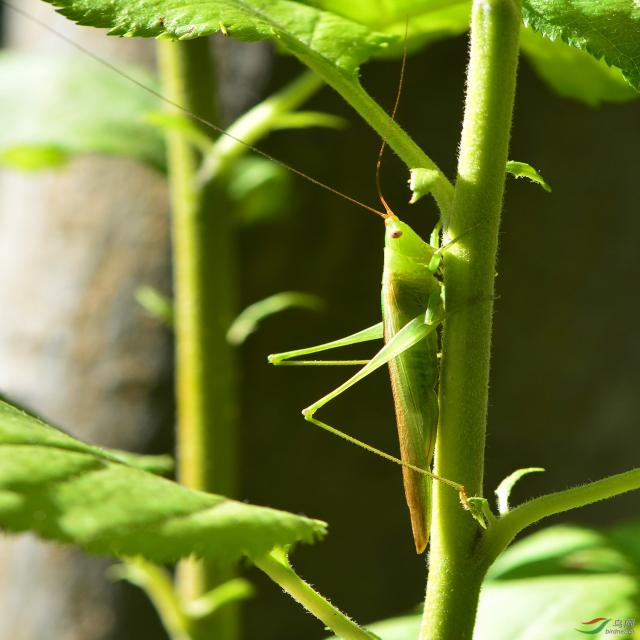ZhaMeng: (287, 177, 500, 537)
